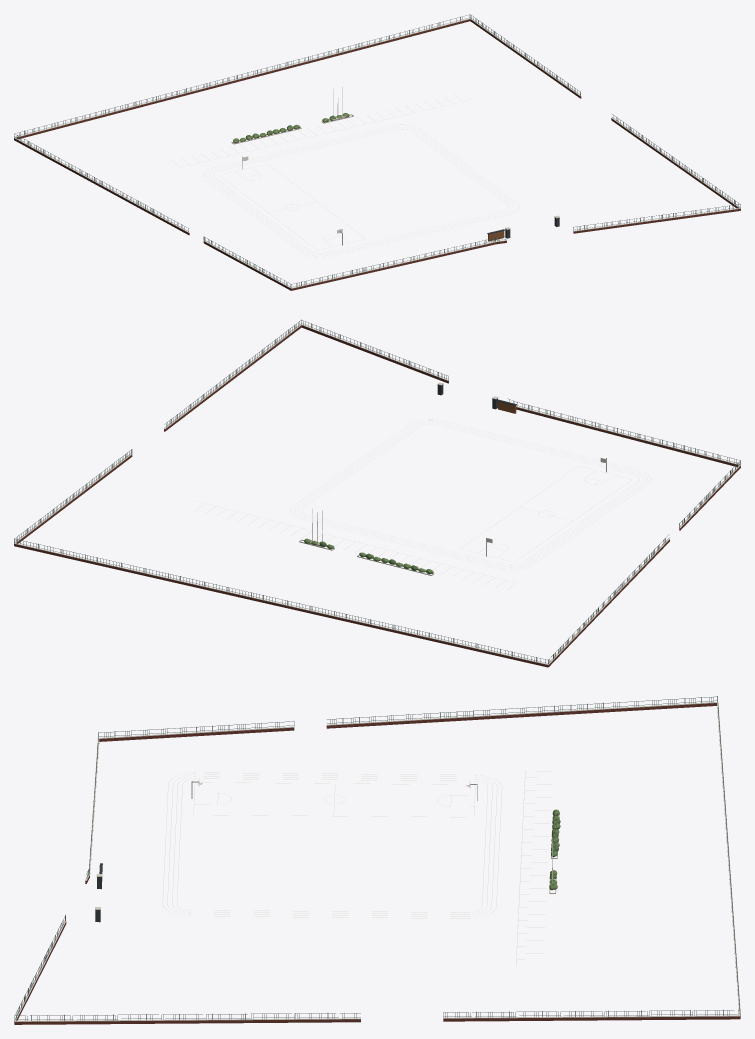
3 renders of one model, top to bottom at view 1: azimuth 30°, elevation 25°; view 2: azimuth 150°, elevation 25°; view 3: azimuth 270°, elevation 25°, orthographic. The views are drawn at different scales.
Visible parts, largest first — view 1: prop_boundary-fence, prop_running-track, prop_flowerbeds; view 2: prop_boundary-fence, prop_running-track, prop_flowerbeds; view 3: prop_boundary-fence, prop_running-track, prop_forecourt-parking.
Boxes of the visible parts, x1,y1,x2,y2 form: prop_boundary-fence: [14, 14, 740, 290]; prop_running-track: [203, 124, 519, 257]; prop_flowerbeds: [231, 113, 353, 144]; prop_boundary-fence: [14, 319, 740, 667]; prop_running-track: [290, 419, 651, 570]; prop_flowerbeds: [299, 538, 434, 575]; prop_boundary-fence: [14, 696, 740, 1024]; prop_running-track: [162, 772, 502, 918]; prop_forecourt-parking: [516, 771, 552, 965].
Size of the model in its own units: 128 by 8.2 by 123.
